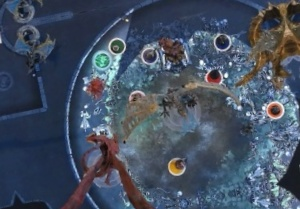blue: (211, 30, 234, 53)
green: (106, 33, 129, 57)
orange: (262, 98, 286, 120)
pink: (123, 84, 149, 109)
red: (203, 66, 226, 87)
violet: (138, 43, 163, 67)
yellow: (162, 151, 191, 180)
